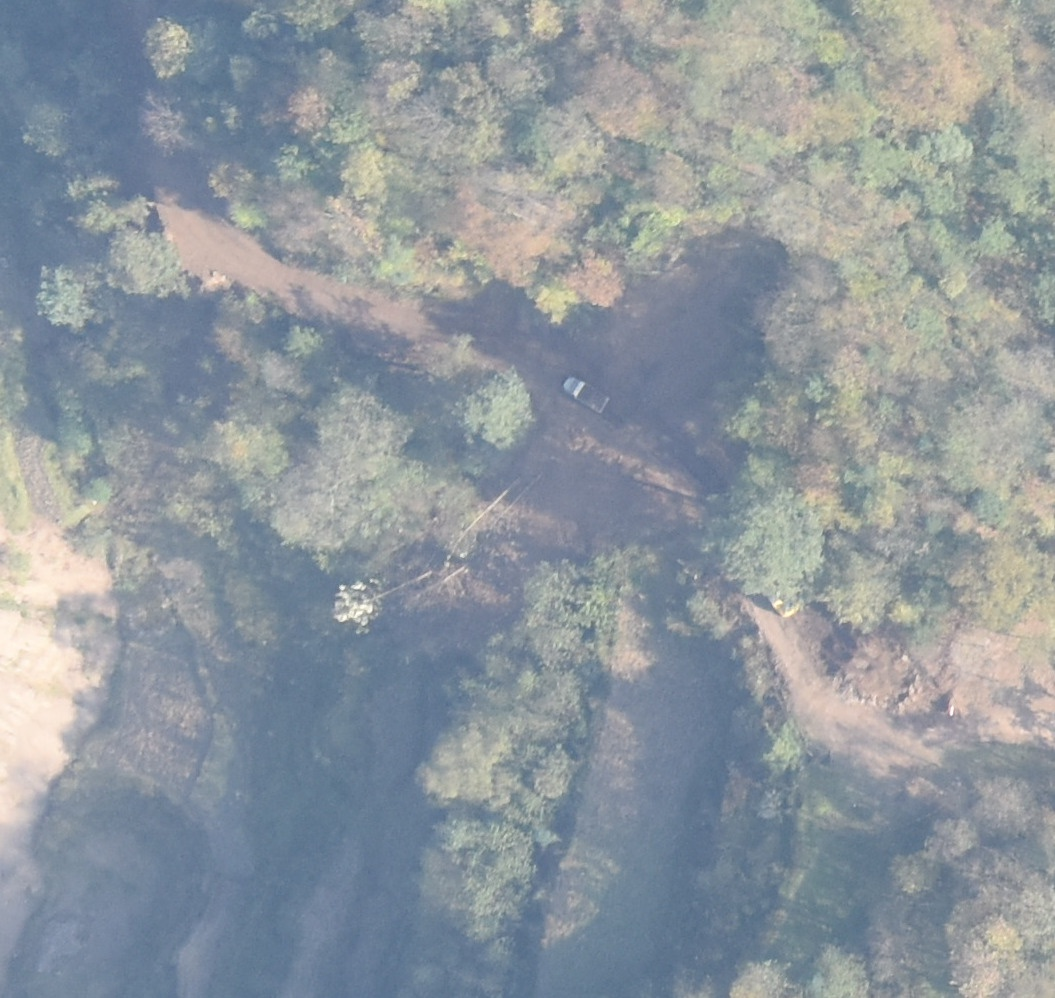vehicle: (559, 376, 612, 416)
